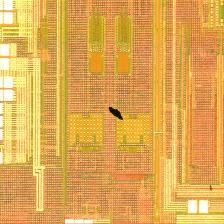PARTICLE: (106, 103, 219, 194)
